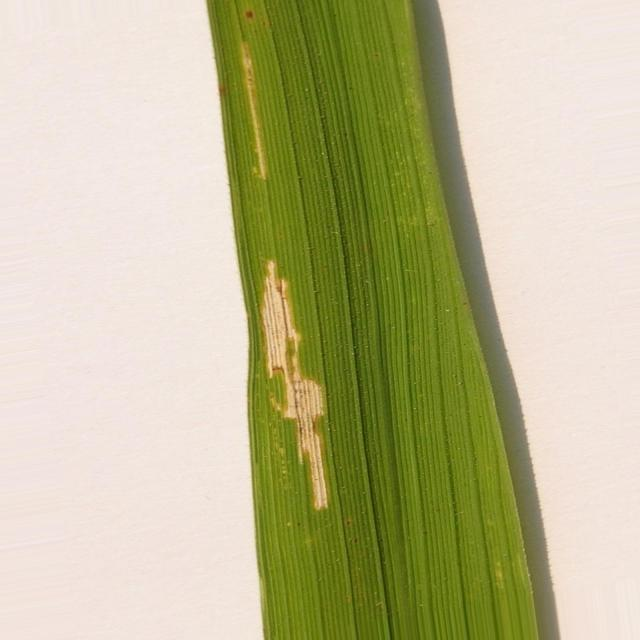Bacterial_Leaf_Blight: (261, 260, 328, 509), (243, 41, 269, 184)
